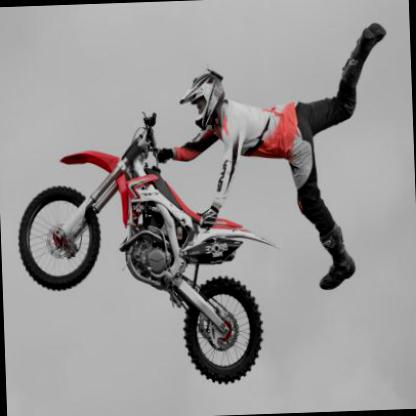motorcycle: (19, 106, 285, 382)
